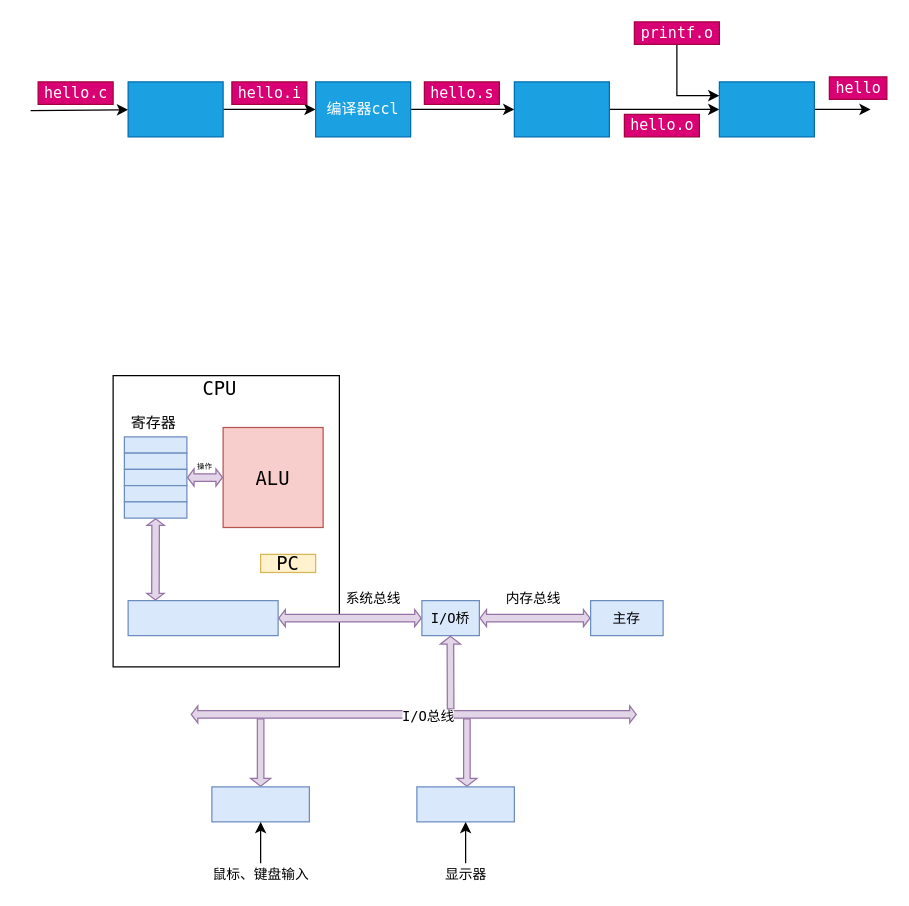
Some shapes in this 909 by 906 pixel diagram are drawn without their labels. Here are the shapes that lost their labels. From the top down, the box of each, then its label:
(127, 81, 223, 137): 预处理器cpp
(513, 81, 609, 137): 汇编器as
(718, 81, 814, 137): 链接器ld
(127, 599, 278, 636): 总线接口
(211, 786, 309, 822): USB控制器
(416, 786, 514, 822): 图形适配器
